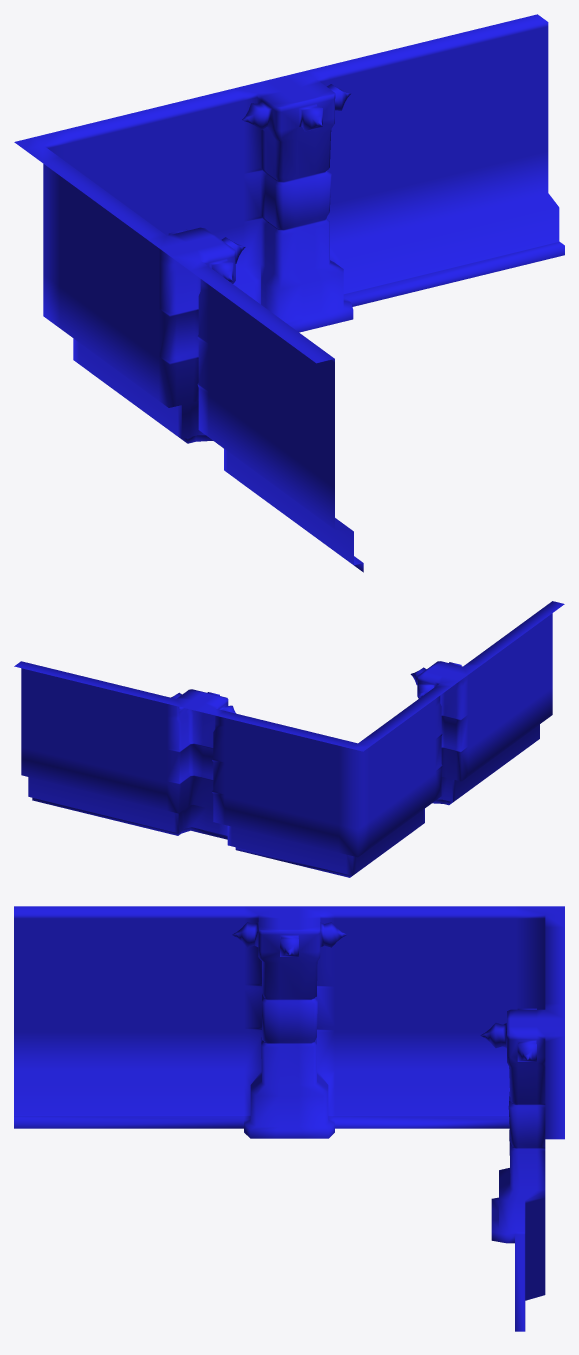
File: S_Walls_L_low.fbx
The picture shows the model from 3 angles, top to bottom: view 1: azimuth 30°, elevation 25°; view 2: azimuth 150°, elevation 25°; view 3: azimuth 270°, elevation 25°; orthographic projection. The views are drawn at different scales.
Parts seen in each view (by area): view 1: Wall_L_low; view 2: Wall_L_low; view 3: Wall_L_low.
Boxes of the visible parts, x1,y1,x2,y2 form: Wall_L_low: (14,14,564,572); Wall_L_low: (14,601,564,877); Wall_L_low: (14,906,564,1331).
Bounding box in the file's own units: 20 × 8.06 × 20.
